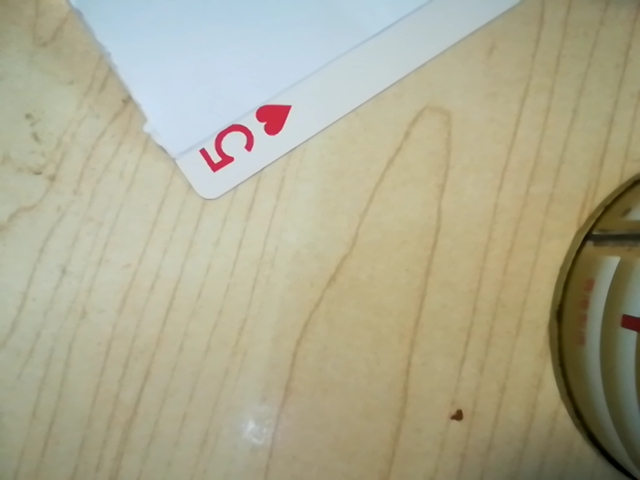hx 5: (189, 103, 293, 181)
